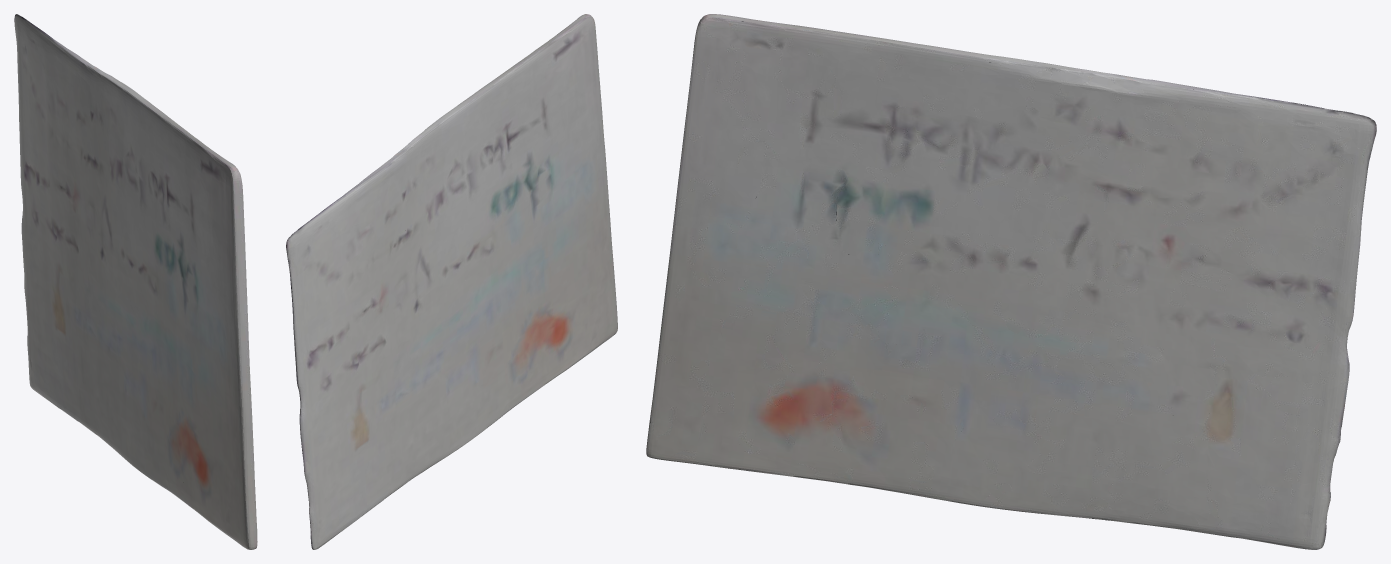
Rendered from whiteboard_on_the_left_wall_000.glb.
3 renders of one model, left to right at view 1: azimuth 30°, elevation 25°; view 2: azimuth 150°, elevation 25°; view 3: azimuth 270°, elevation 25°, orthographic. The views are drawn at different scales.
Parts seen in each view (by area): view 1: whiteboard_on_the_left_wall_000.obj; view 2: whiteboard_on_the_left_wall_000.obj; view 3: whiteboard_on_the_left_wall_000.obj.
Part boxes in pixels (x1,y1,x2,y2): whiteboard_on_the_left_wall_000.obj: (14,14,257,549); whiteboard_on_the_left_wall_000.obj: (286,14,617,549); whiteboard_on_the_left_wall_000.obj: (646,14,1376,549).
Size of the model in its own units: 0.0781 by 0.4713 by 0.6168.
1 material, 1 textured.
